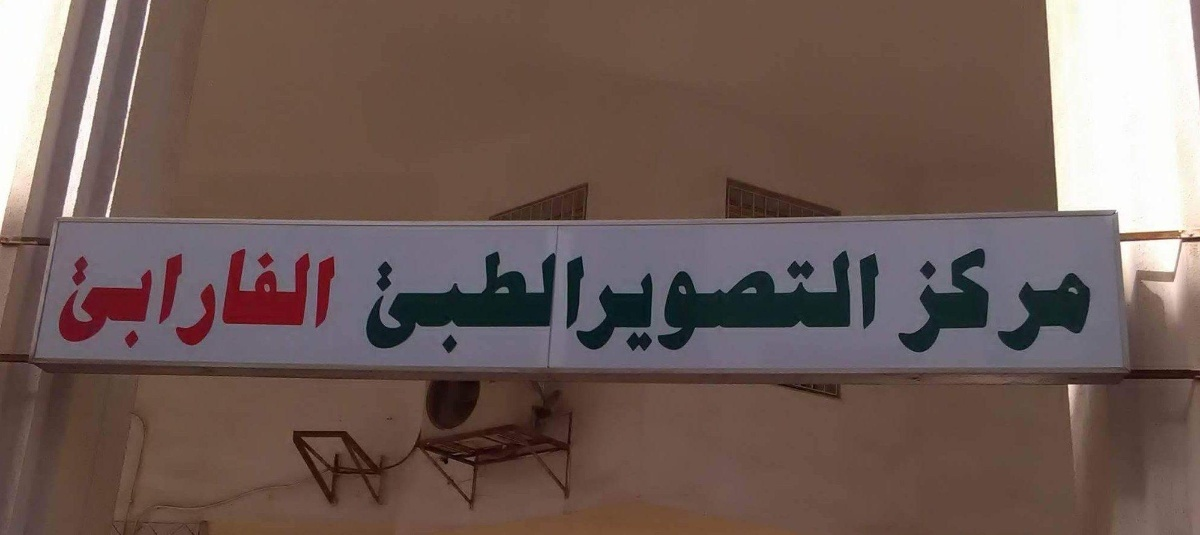text: (897, 247, 912, 355), (913, 247, 928, 355), (929, 247, 944, 355), (945, 247, 960, 355), (961, 247, 976, 355), (977, 247, 992, 355), (993, 247, 1008, 355), (1009, 247, 1024, 355), (1025, 247, 1040, 355), (1041, 247, 1056, 355), (1057, 247, 1072, 355), (1073, 247, 1088, 355), (609, 247, 624, 353), (625, 247, 640, 353), (641, 247, 656, 353), (657, 247, 672, 353), (673, 247, 688, 353), (689, 247, 704, 353), (705, 247, 720, 353), (721, 247, 736, 353), (737, 247, 752, 353), (753, 247, 768, 353), (769, 247, 784, 353), (785, 247, 800, 353), (801, 247, 816, 353), (817, 247, 832, 353), (833, 247, 848, 353), (849, 247, 864, 353), (865, 247, 880, 353), (385, 251, 400, 357), (401, 251, 416, 357), (417, 251, 432, 357), (433, 251, 448, 357), (449, 251, 464, 357), (465, 251, 480, 357), (481, 251, 496, 357), (497, 251, 512, 357), (513, 251, 528, 357), (529, 251, 544, 357), (545, 251, 560, 357), (561, 251, 576, 357), (65, 249, 80, 352), (81, 249, 96, 352), (97, 249, 112, 352), (113, 249, 128, 352), (129, 249, 144, 352), (145, 249, 160, 352), (161, 249, 176, 352), (177, 249, 192, 352), (193, 249, 208, 352), (209, 249, 224, 352), (225, 249, 240, 352), (241, 249, 256, 352), (257, 249, 272, 352), (273, 249, 288, 352), (289, 249, 304, 352), (305, 249, 320, 352), (321, 249, 336, 352), (577, 251, 591, 357), (595, 247, 608, 353), (376, 251, 384, 357), (1089, 247, 1091, 355), (881, 247, 883, 353), (337, 249, 339, 352)
